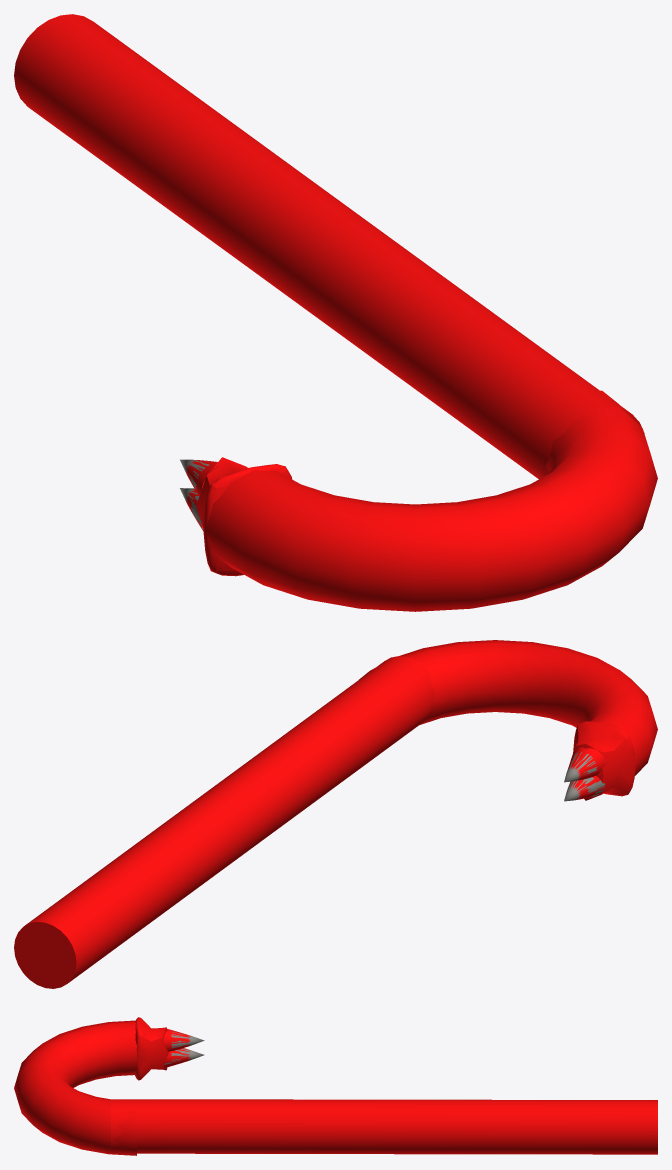
File: ลKตง.FBX
3 views of the same model, one above another, from view 1: azimuth 30°, elevation 25°; view 2: azimuth 150°, elevation 25°; view 3: azimuth 270°, elevation 25° (orthographic). The views are drawn at different scales.
Parts seen in each view (by area): view 1: Cone001, Torus001, Box001; view 2: Cone001, Torus001, Box001; view 3: Cone001, Torus001, Box001.
Boxes of the visible parts, left/top/right/bottom form: Cone001: left=14, top=14, right=644, bottom=530; Torus001: left=205, top=390, right=657, bottom=611; Box001: left=196, top=457, right=292, bottom=576; Cone001: left=14, top=656, right=604, bottom=988; Torus001: left=359, top=640, right=657, bottom=775; Box001: left=569, top=721, right=635, bottom=800; Cone001: left=111, top=1027, right=657, bottom=1154; Torus001: left=14, top=1020, right=136, bottom=1155; Box001: left=135, top=1017, right=168, bottom=1080.
Bounding box in the file's own units: 18 × 4.37 × 47.09.
